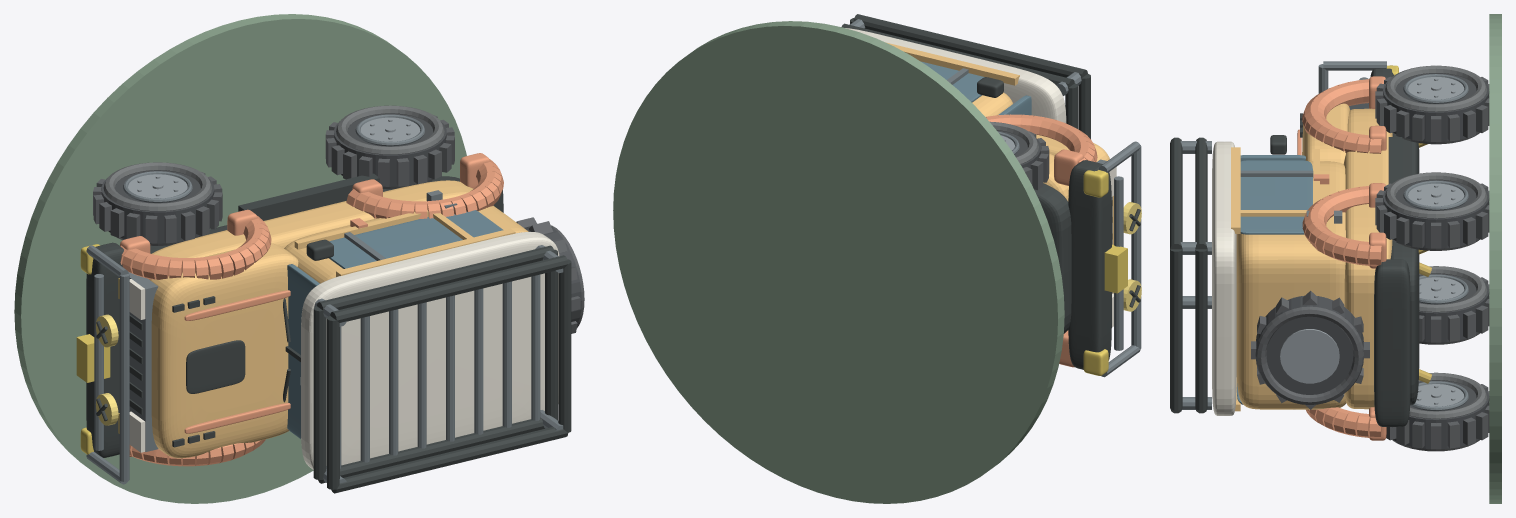
Rendered from expedition_jeep.glb.
3 renders of one model, left to right at view 1: azimuth 30°, elevation 25°; view 2: azimuth 150°, elevation 25°; view 3: azimuth 270°, elevation 25°, orthographic. The views are drawn at different scales.
Parts seen in each view (by area): view 1: display_base__platform, body__black, body__orange, body__beige, body__steel_dark, body__orange_dark, body__glass, front_L__tread, rear_L__tread, front_L__rubber_soft, rear_L__rubber_soft, front_L__tire (+10 smaller); view 2: display_base__platform, body__black, body__steel_dark, body__beige, body__orange_dark, body__orange, body__gold, body__glass, body__gold_bright, front_L__tread, front_L__rubber_soft; view 3: body__orange, body__black, body__orange_dark, display_base__platform, body__beige, body__glass, spare_wheel__tread, spare_wheel__tire, rear_L__tread, front_L__tread, body__steel_dark, spare_wheel__steel (+18 smaller).
Part boxes in pixels (left/top/right/bottom): display_base__platform: left=14, top=14, right=466, bottom=503; body__black: left=86, top=173, right=571, bottom=493; body__orange: left=149, top=180, right=528, bottom=458; body__beige: left=300, top=232, right=559, bottom=469; body__steel_dark: left=86, top=190, right=563, bottom=484; body__orange_dark: left=120, top=153, right=503, bottom=466; body__glass: left=287, top=210, right=503, bottom=438; front_L__tread: left=93, top=172, right=222, bottom=243; rear_L__tread: left=325, top=115, right=454, bottom=186; front_L__rubber_soft: left=103, top=162, right=211, bottom=245; rear_L__rubber_soft: left=336, top=105, right=444, bottom=189; front_L__tire: left=101, top=170, right=214, bottom=243; display_base__platform: left=613, top=21, right=1064, bottom=503; body__black: left=841, top=14, right=1140, bottom=369; body__steel_dark: left=849, top=19, right=1141, bottom=377; body__beige: left=845, top=28, right=1066, bottom=122; body__orange_dark: left=986, top=114, right=1097, bottom=367; body__orange: left=885, top=42, right=1113, bottom=293; body__gold: left=1083, top=170, right=1127, bottom=375; body__glass: left=920, top=61, right=1031, bottom=115; body__gold_bright: left=1123, top=202, right=1141, bottom=311; front_L__tread: left=1023, top=131, right=1049, bottom=190; front_L__rubber_soft: left=990, top=121, right=1038, bottom=164; body__orange: left=1231, top=103, right=1392, bottom=411; body__black: left=1170, top=68, right=1419, bottom=427; body__orange_dark: left=1297, top=76, right=1386, bottom=440; display_base__platform: left=1489, top=14, right=1501, bottom=503; body__beige: left=1212, top=141, right=1236, bottom=415; body__glass: left=1237, top=155, right=1312, bottom=404; spare_wheel__tread: left=1251, top=290, right=1369, bottom=409; spare_wheel__tire: left=1255, top=296, right=1363, bottom=394; rear_L__tread: left=1375, top=183, right=1489, bottom=248; front_L__tread: left=1375, top=76, right=1489, bottom=141; body__steel_dark: left=1180, top=61, right=1386, bottom=409; spare_wheel__steel: left=1280, top=329, right=1339, bottom=383.
Size of the model in its own units: 4.7 by 4.7 by 3.18.
